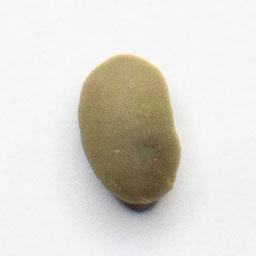peaberry: (74, 47, 185, 210)
